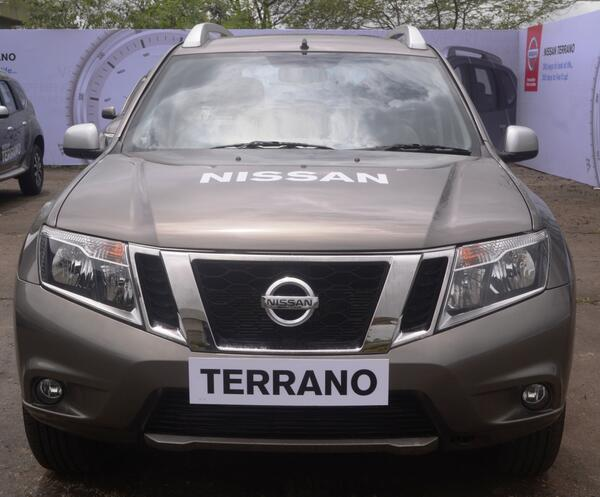licence-plate: (187, 353, 386, 406)
